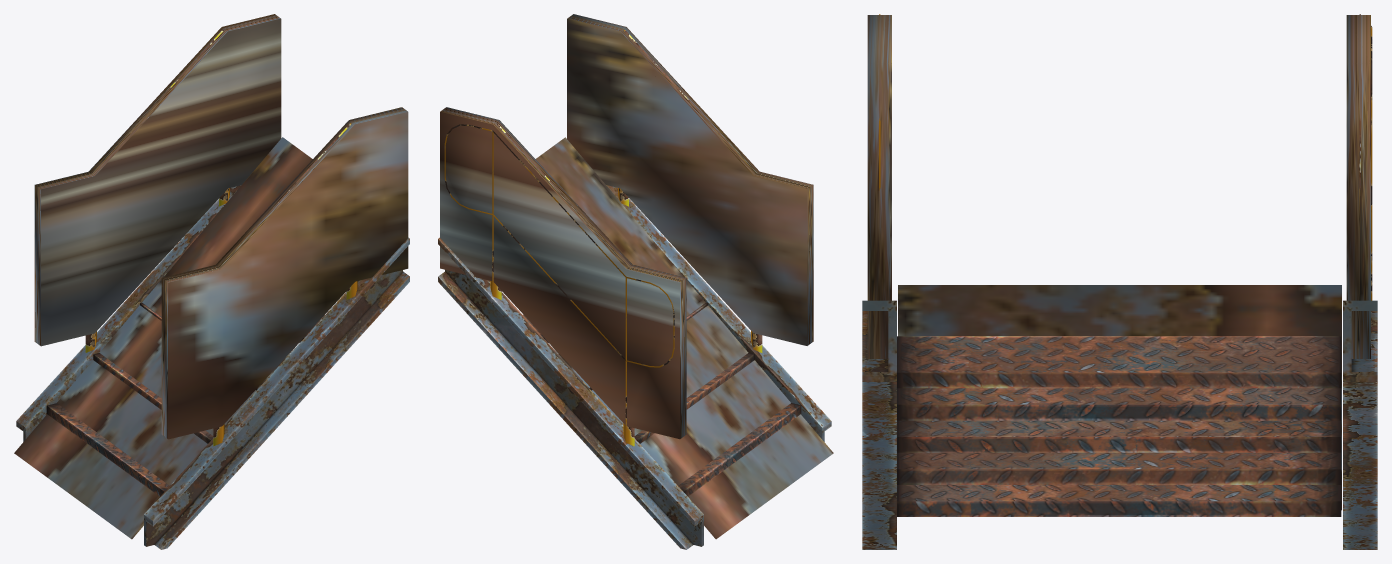
The model's file is platform_stairs01.FBX.
3 views of the same model, side by side, from view 1: azimuth 30°, elevation 25°; view 2: azimuth 150°, elevation 25°; view 3: azimuth 270°, elevation 25° (orthographic). The views are drawn at different scales.
Visible parts, largest first — view 1: platform_stairs01_COL, platform_stairs01; view 2: platform_stairs01_COL, platform_stairs01; view 3: platform_stairs01, platform_stairs01_COL.
Part boxes in pixels (box(x1,y1,x2,y2)): platform_stairs01_COL: box(14, 14, 408, 539); platform_stairs01: box(16, 30, 409, 549); platform_stairs01_COL: box(440, 14, 833, 539); platform_stairs01: box(438, 30, 831, 549); platform_stairs01: box(862, 14, 1377, 549); platform_stairs01_COL: box(867, 15, 1370, 510).
Bounding box in the file's own units: 168 × 225 × 148.
